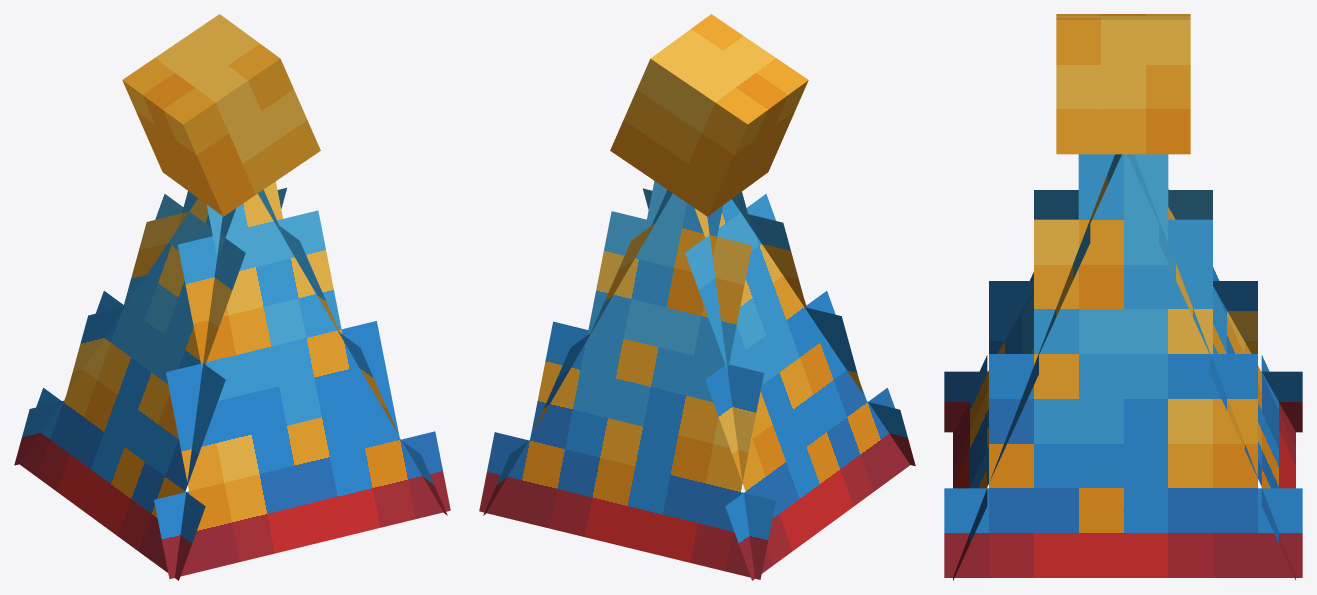
Rendered from party_hat.gltf.
3 renders of one model, left to right at view 1: azimuth 30°, elevation 25°; view 2: azimuth 150°, elevation 25°; view 3: azimuth 270°, elevation 25°, orthographic. The views are drawn at different scales.
Parts seen in each view (by area): view 1: cube (×5); view 2: cube (×5); view 3: cube (×5).
Boxes of the visible parts, x1=… form: cube (×5): x1=14, y1=14, x2=450, y2=580; cube (×5): x1=479, y1=14, x2=915, y2=580; cube (×5): x1=944, y1=14, x2=1302, y2=580.
Bounding box in the file's own units: 0.5 × 0.7621 × 0.5.
1 material, 1 textured.
